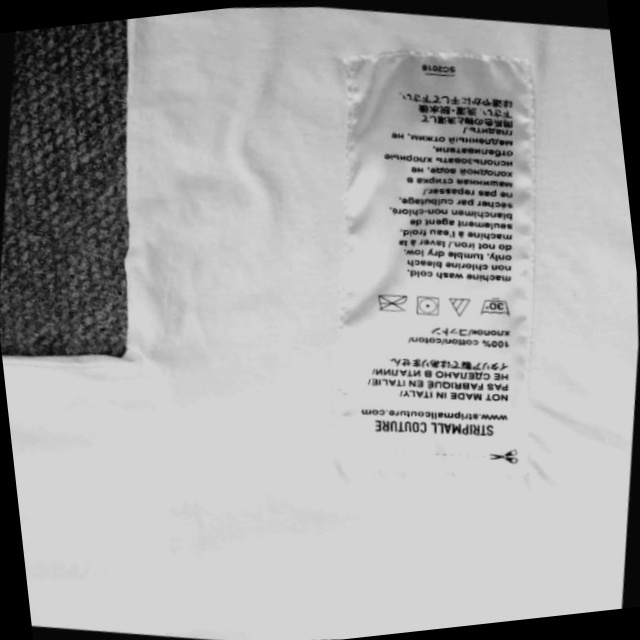30C: (477, 293, 516, 320)
DN_iron: (370, 288, 410, 320)
non_chlorine_bleach: (446, 293, 475, 319)
tumble_dry_low: (412, 291, 448, 318)
